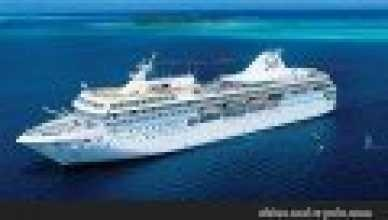youlun: (18, 43, 335, 167)
